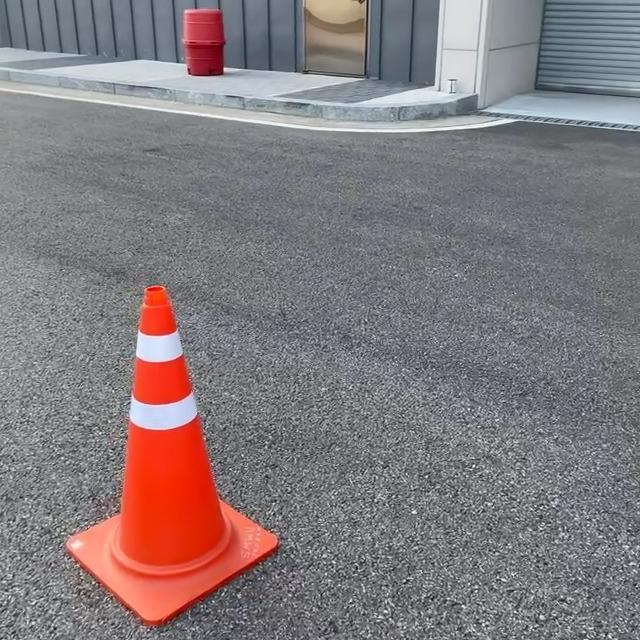fallen_object: (66, 273, 265, 598)
